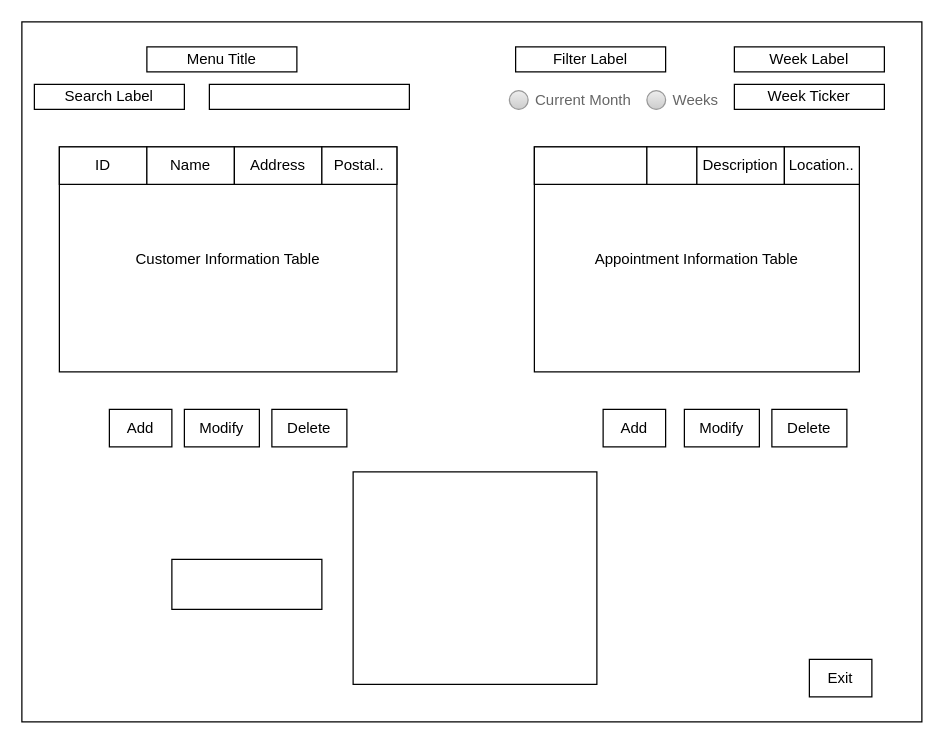
Some shapes in this 944 by 744 pixel diagram are drawn without their labels. Each missing label, with the centre of its shape:
Appointment ID: (x=590, y=165)
Customer Search Bar: (x=308, y=96)
Report ChoiceBox: (x=246, y=583)
Report Information: (x=474, y=577)
Title: (x=671, y=165)
